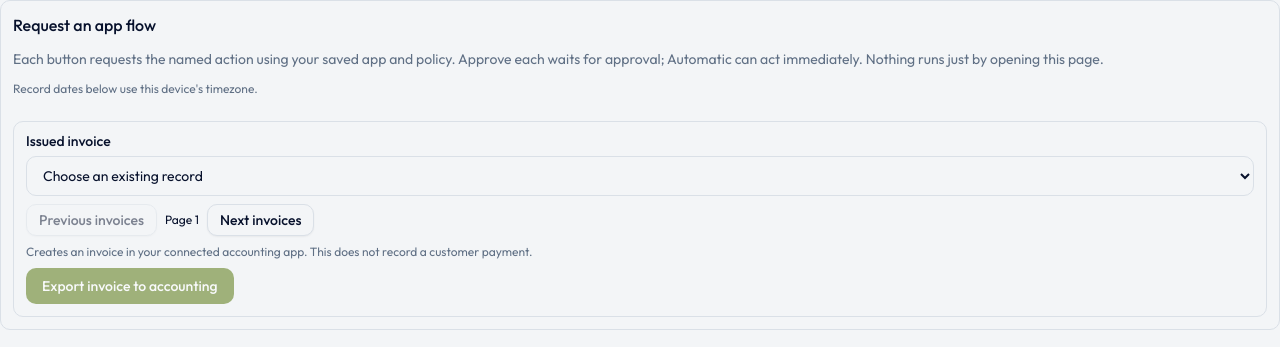
Test: paginates issued invoices and clears the previous record selection
This screenshot has width=1280, height=347.
Select "INV-001 · First customer · Date unavailable" in the dropdown labelled "Issued invoice" at {"x": 640, "y": 176}, box top-left (26, 156), bottom-right (1254, 196)
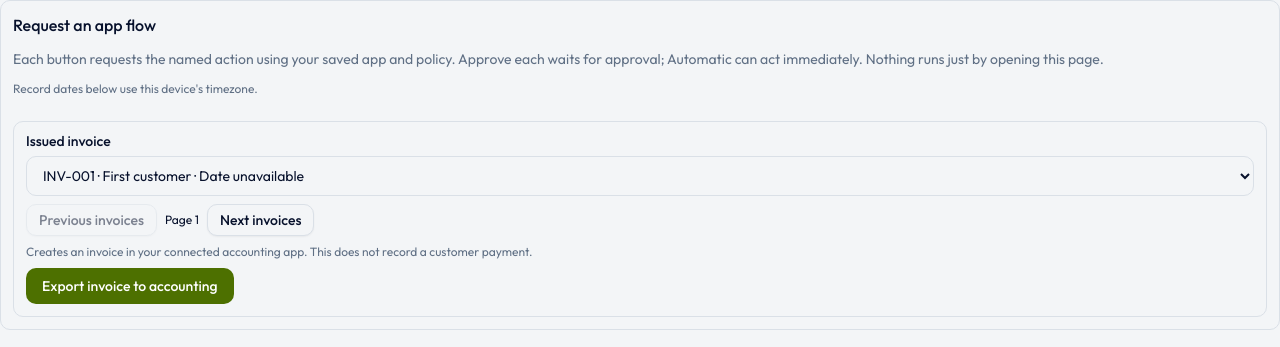
Click the button "Next invoices" at {"x": 261, "y": 220}, box top-left (207, 204), bottom-right (314, 236)
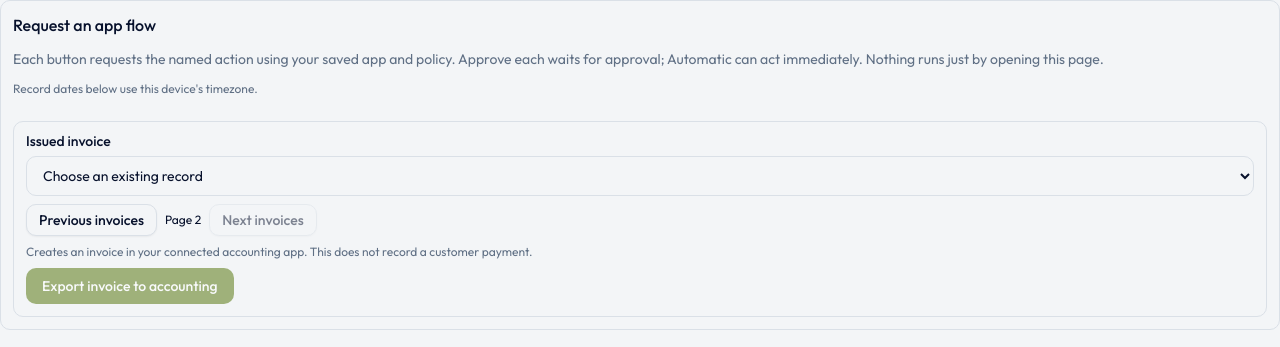
Expected: the text "First customer" is not shown
Now the button "Export invoice to accounting" is disabled, box top-left (26, 268), bottom-right (234, 304)
